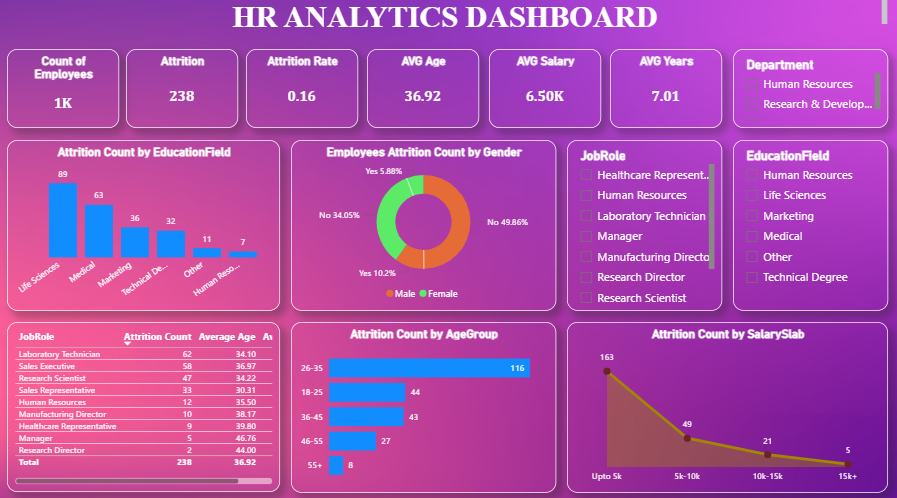

The page's visual inventory and layout, read from the dashboard file:
{"tool":"powerbi","page":{"name":"Page 1","canvas":[1280,720],"ordinal":0},"visuals":[{"type":"textbox","box":[9.9,0,1257.2,52.4],"z":0},{"type":"cardVisual","title":"Count of Employees","fields":{"Data":["HR_Analytics.Total Employees"]},"box":[14.2,76.5,158.7,112],"z":1000},{"type":"cardVisual","title":"Attrition","fields":{"Data":["HR_Analytics.Attrition Count"]},"box":[182.8,76.5,158.7,112],"z":2000},{"type":"cardVisual","title":"Attrition Rate","fields":{"Data":["HR_Analytics.Attrition Rate"]},"box":[352.9,76.5,158.7,112],"z":3000},{"type":"cardVisual","title":"AVG Age","fields":{"Data":["HR_Analytics.Average Age"]},"box":[524.4,76.5,158.7,112],"z":4000},{"type":"cardVisual","title":"AVG Salary","fields":{"Data":["HR_Analytics.Avg salary"]},"box":[697.3,76.5,158.7,112],"z":5000},{"type":"cardVisual","title":"AVG Years","fields":{"Data":["HR_Analytics.Avg Years"]},"box":[868.8,76.5,158.7,112],"z":6000},{"type":"columnChart","fields":{"Category":["HR_Analytics.EducationField"],"Y":["HR_Analytics.Attrition Count"]},"box":[14.2,205.5,386.9,242.4],"z":7000},{"type":"donutChart","title":"Employees Attrition Count by Gender","fields":{"Y":["HR_Analytics.Total Employees"],"Category":["HR_Analytics.Gender"],"Series":["HR_Analytics.Attrition"]},"box":[416.7,205.5,375.6,242.4],"z":8000},{"type":"barChart","fields":{"Category":["HR_Analytics.AgeGroup"],"Y":["HR_Analytics.Attrition Count"]},"box":[416.7,463.5,375.6,242.4],"z":9000},{"type":"areaChart","fields":{"Category":["HR_Analytics.SalarySlab"],"Y":["HR_Analytics.Attrition Count"]},"box":[807.9,463.5,455,242.4],"z":10000},{"type":"tableEx","fields":{"Values":["HR_Analytics.JobRole","HR_Analytics.Attrition Count","HR_Analytics.Average Age","HR_Analytics.Avg Years"]},"box":[14.2,463.5,386.9,240.9],"z":11000},{"type":"slicer","fields":{"Values":["HR_Analytics.Department"]},"box":[1043.1,76.5,219.7,112],"z":12000},{"type":"slicer","fields":{"Values":["HR_Analytics.JobRole"]},"box":[807.9,205.5,219.7,242.4],"z":12001},{"type":"slicer","fields":{"Values":["HR_Analytics.EducationField"]},"box":[1043.1,205.5,219.7,242.4],"z":12002}]}

Visuals, with their boxes in screenshot pixels (x1, y1, x2, y2), scaled from the page's 1280x720 canvas onto the 897x498 screenshot:
textbox: <box>7,0,888,36</box>
"Count of Employees" cardVisual: <box>10,53,121,130</box>
"Attrition" cardVisual: <box>128,53,239,130</box>
"Attrition Rate" cardVisual: <box>247,53,359,130</box>
"AVG Age" cardVisual: <box>367,53,479,130</box>
"AVG Salary" cardVisual: <box>489,53,600,130</box>
"AVG Years" cardVisual: <box>609,53,720,130</box>
columnChart - HR_Analytics.EducationField x HR_Analytics.Attrition Count: <box>10,142,281,310</box>
"Employees Attrition Count by Gender" donutChart: <box>292,142,555,310</box>
barChart - HR_Analytics.AgeGroup x HR_Analytics.Attrition Count: <box>292,321,555,488</box>
areaChart - HR_Analytics.SalarySlab x HR_Analytics.Attrition Count: <box>566,321,885,488</box>
tableEx - HR_Analytics.JobRole x HR_Analytics.Attrition Count: <box>10,321,281,487</box>
slicer - HR_Analytics.Department: <box>731,53,885,130</box>
slicer - HR_Analytics.JobRole: <box>566,142,720,310</box>
slicer - HR_Analytics.EducationField: <box>731,142,885,310</box>
